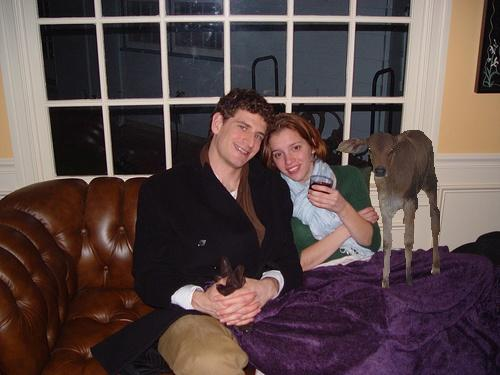tampered: (337, 131, 440, 288)
